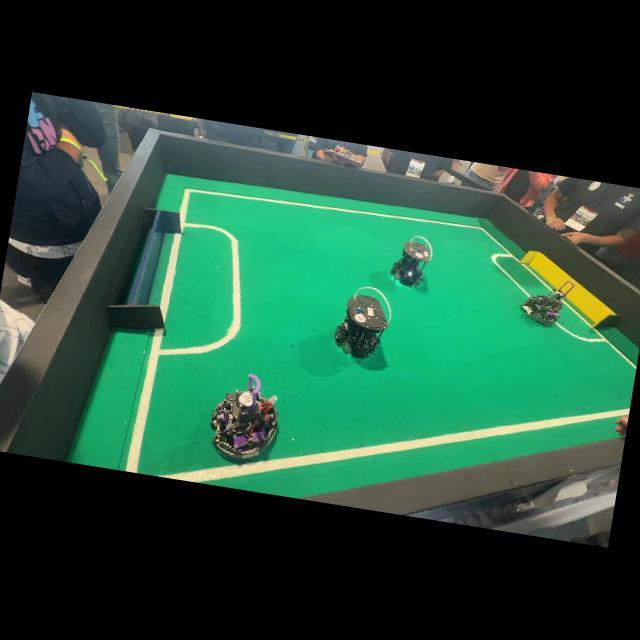goal: (107, 208, 181, 329), (520, 251, 620, 328)
robot: (211, 375, 277, 458), (334, 287, 391, 359), (390, 239, 431, 286), (521, 290, 566, 326)
